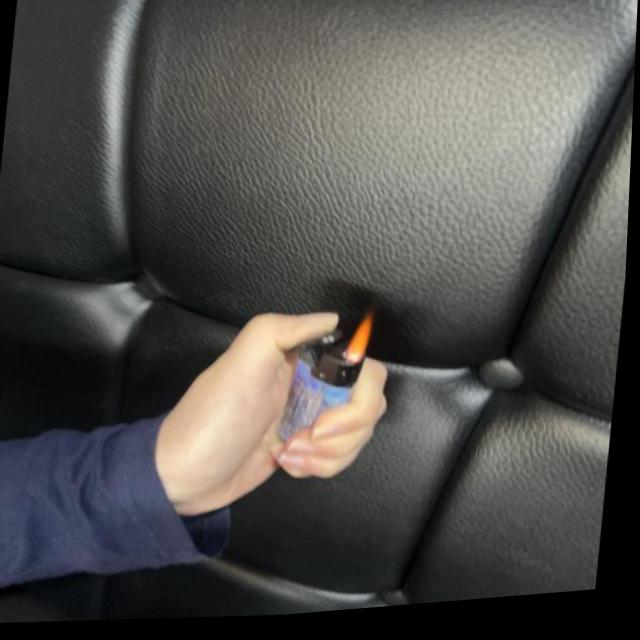Fire: (345, 316, 378, 373)
